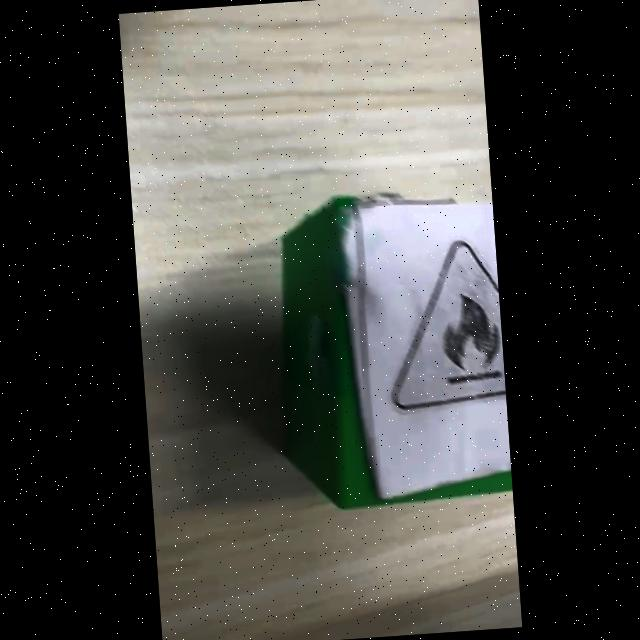Fire: (391, 242, 505, 409)
